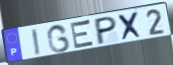2: (145, 8, 166, 36)
E: (69, 19, 96, 51)
G: (45, 23, 71, 54)
I: (30, 27, 42, 58)
P: (95, 15, 118, 47)
X: (117, 10, 145, 42)
